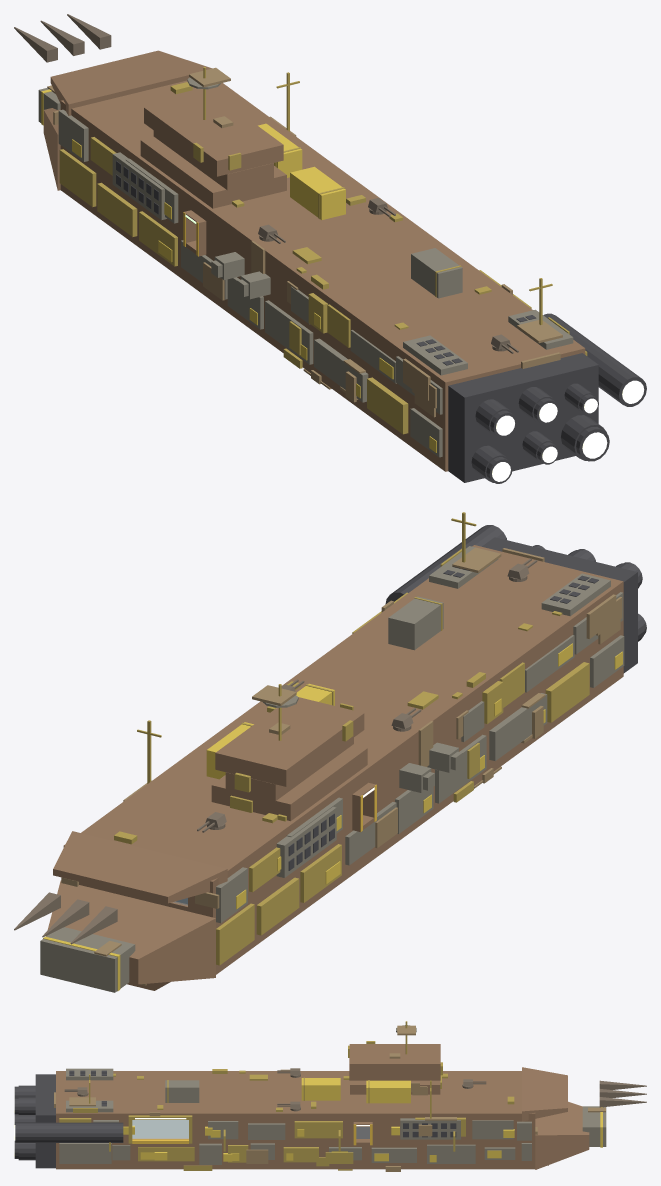
File: ship_SMALL_FRIGATE_v3.glb
3 views of the same model, one above another, from view 1: azimuth 30°, elevation 25°; view 2: azimuth 150°, elevation 25°; view 3: azimuth 270°, elevation 25° (orthographic). The views are drawn at different scales.
Visible parts, largest first — view 1: SMALL_FRIGATE_Hull-col, SMALL_FRIGATE_Engines, SMALL_FRIGATE_Armor, SMALL_FRIGATE_Trim, SMALL_FRIGATE_ScrapPlates, SMALL_FRIGATE_Accent, SMALL_FRIGATE_EngineGlow, SMALL_FRIGATE_RamSpikes, SMALL_FRIGATE_ScrapTrim, SMALL_FRIGATE_Details, SMALL_FRIGATE_EscapePod_2, SMALL_FRIGATE_EscapePod_1; view 2: SMALL_FRIGATE_Hull-col, SMALL_FRIGATE_Armor, SMALL_FRIGATE_Trim, SMALL_FRIGATE_Engines, SMALL_FRIGATE_ScrapPlates, SMALL_FRIGATE_Accent, SMALL_FRIGATE_ScrapTrim, SMALL_FRIGATE_RamSpikes, SMALL_FRIGATE_Details, SMALL_FRIGATE_EscapePod_2, SMALL_FRIGATE_EscapePod_1; view 3: SMALL_FRIGATE_Hull-col, SMALL_FRIGATE_Armor, SMALL_FRIGATE_Engines, SMALL_FRIGATE_Trim, SMALL_FRIGATE_Accent, SMALL_FRIGATE_ScrapPlates, SMALL_FRIGATE_CargoBayShield, SMALL_FRIGATE_CargoBayDoor-col, SMALL_FRIGATE_ScrapTrim, SMALL_FRIGATE_RamSpikes, SMALL_FRIGATE_Details, SMALL_FRIGATE_Hazard.
Part boxes in pixels (left/top/right/bottom): SMALL_FRIGATE_Hull-col: left=43, top=50, right=585, bottom=471; SMALL_FRIGATE_Engines: left=116, top=161, right=646, bottom=483; SMALL_FRIGATE_Armor: left=38, top=77, right=573, bottom=457; SMALL_FRIGATE_Trim: left=59, top=66, right=587, bottom=434; SMALL_FRIGATE_ScrapPlates: left=47, top=67, right=562, bottom=417; SMALL_FRIGATE_Accent: left=41, top=89, right=436, bottom=452; SMALL_FRIGATE_EngineGlow: left=492, top=380, right=644, bottom=481; SMALL_FRIGATE_RamSpikes: left=14, top=14, right=111, bottom=62; SMALL_FRIGATE_ScrapTrim: left=193, top=72, right=569, bottom=368; SMALL_FRIGATE_Details: left=170, top=82, right=491, bottom=329; SMALL_FRIGATE_EscapePod_2: left=211, top=252, right=244, bottom=280; SMALL_FRIGATE_EscapePod_1: left=237, top=271, right=270, bottom=299; SMALL_FRIGATE_Hull-col: left=46, top=545, right=623, bottom=990; SMALL_FRIGATE_Armor: left=40, top=546, right=624, bottom=992; SMALL_FRIGATE_Trim: left=216, top=592, right=589, bottom=965; SMALL_FRIGATE_Engines: left=288, top=525, right=646, bottom=870; SMALL_FRIGATE_ScrapPlates: left=61, top=547, right=622, bottom=985; SMALL_FRIGATE_Accent: left=43, top=643, right=622, bottom=991; SMALL_FRIGATE_ScrapTrim: left=137, top=512, right=479, bottom=812; SMALL_FRIGATE_RamSpikes: left=14, top=892, right=117, bottom=944; SMALL_FRIGATE_Details: left=114, top=611, right=562, bottom=844; SMALL_FRIGATE_EscapePod_2: left=399, top=763, right=434, bottom=792; SMALL_FRIGATE_EscapePod_1: left=427, top=742, right=462, bottom=772; SMALL_FRIGATE_Hull-col: left=56, top=1044, right=589, bottom=1169; SMALL_FRIGATE_Armor: left=59, top=1025, right=606, bottom=1164; SMALL_FRIGATE_Engines: left=14, top=1070, right=456, bottom=1168; SMALL_FRIGATE_Trim: left=59, top=1021, right=465, bottom=1162; SMALL_FRIGATE_Accent: left=123, top=1078, right=602, bottom=1162; SMALL_FRIGATE_ScrapPlates: left=54, top=1025, right=605, bottom=1171; SMALL_FRIGATE_CargoBayShield: left=132, top=1120, right=188, bottom=1138; SMALL_FRIGATE_CargoBayDoor-col: left=132, top=1120, right=188, bottom=1138; SMALL_FRIGATE_ScrapTrim: left=73, top=1041, right=442, bottom=1170; SMALL_FRIGATE_RamSpikes: left=599, top=1080, right=646, bottom=1107; SMALL_FRIGATE_Details: left=113, top=1069, right=514, bottom=1111; SMALL_FRIGATE_Hazard: left=132, top=1124, right=372, bottom=1145.
Size of the model in its own units: 20.7 by 21.07 by 93.72.
